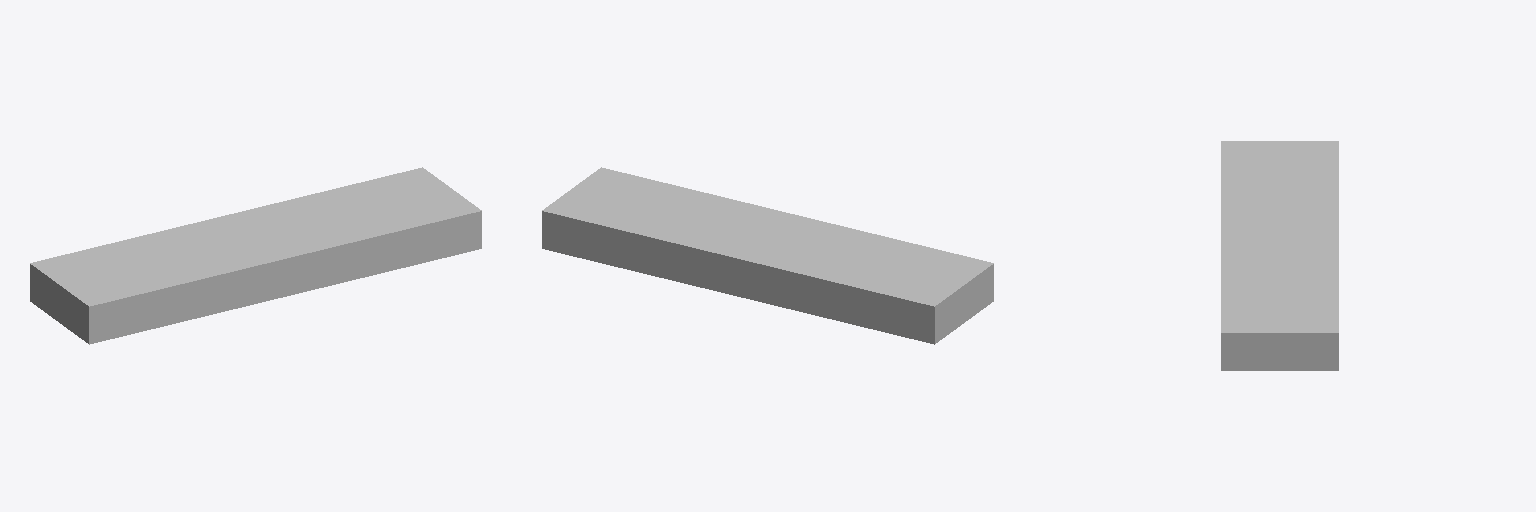
File: ceiling light.obj
3 views of the same model, side by side, from view 1: azimuth 30°, elevation 25°; view 2: azimuth 150°, elevation 25°; view 3: azimuth 270°, elevation 25° (orthographic).
Visible parts, largest first — view 1: Cube; view 2: Cube; view 3: Cube.
Part boxes in pixels (bbox=[...]): Cube: bbox=[30, 167, 481, 344]; Cube: bbox=[542, 167, 993, 344]; Cube: bbox=[1221, 141, 1338, 370].
Size of the model in its own units: 2.59 by 0.2388 by 0.6788.